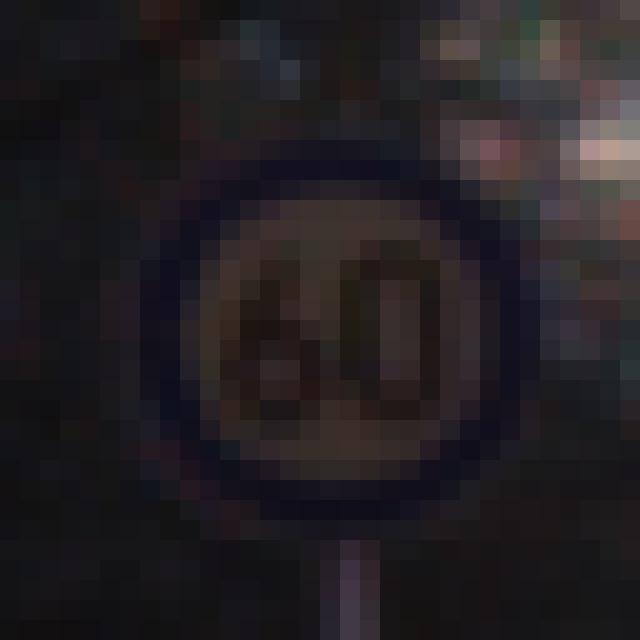SPEED-LIMIT-60: (106, 120, 533, 539)
